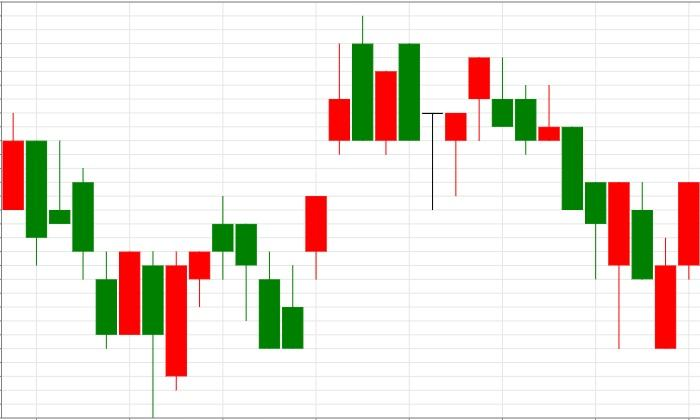hammer_rise: (492, 57, 606, 279)
